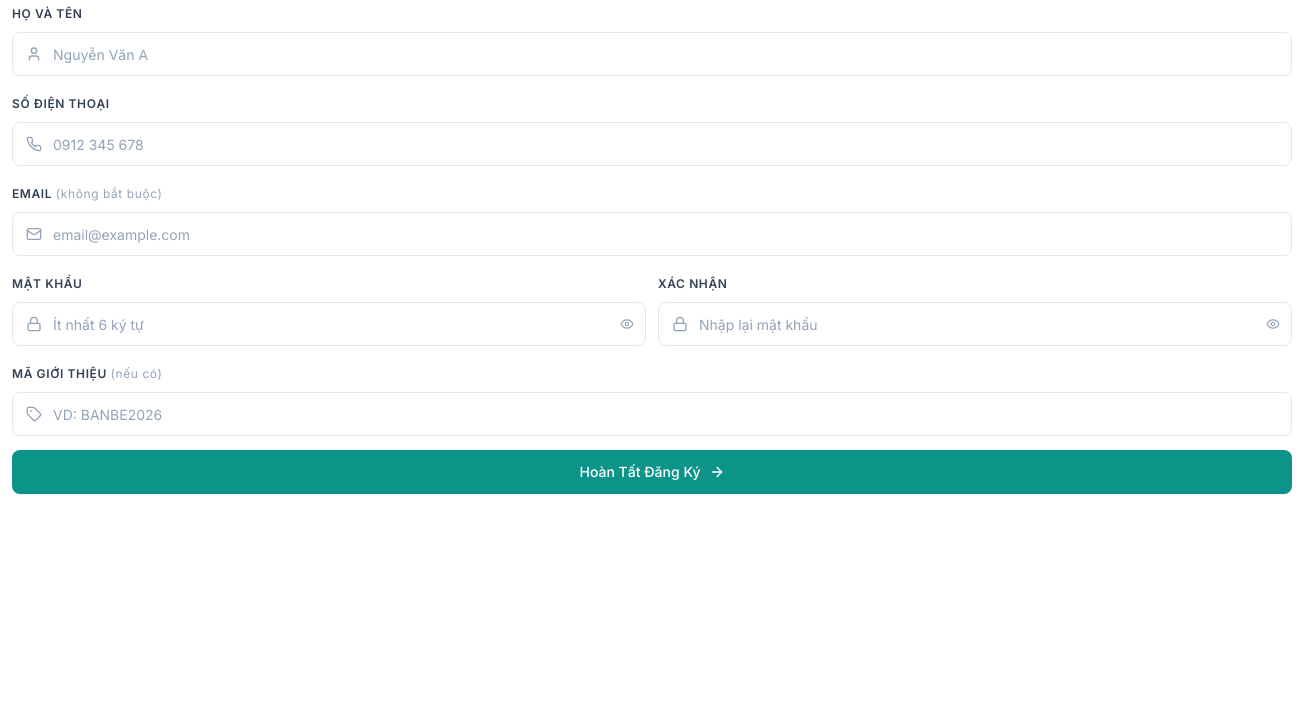
Test case: RegisterForm › toggles confirmPassword visibility between password and text types
This screenshot has width=1304, height=720.
Expected: the 2nd icon with class "lucide-eye" is shown, 1266,317 -> 1280,331
Click the 2nd button named "Hiện mật khẩu" at (1279, 324), box 1266,302 -> 1292,346
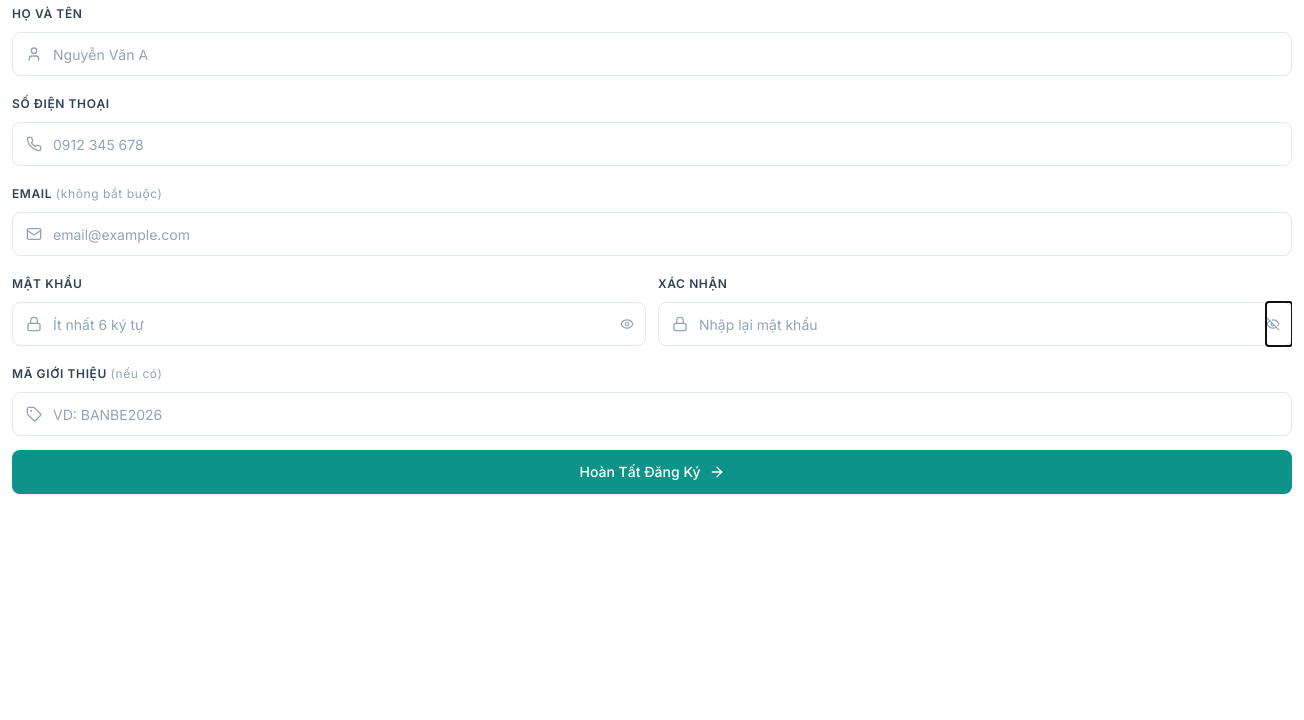
Expected: the icon with class "lucide-eye-off" is shown, 1266,317 -> 1280,331
Click the button named "Ẩn mật khẩu" at (1279, 324), box 1266,302 -> 1292,346
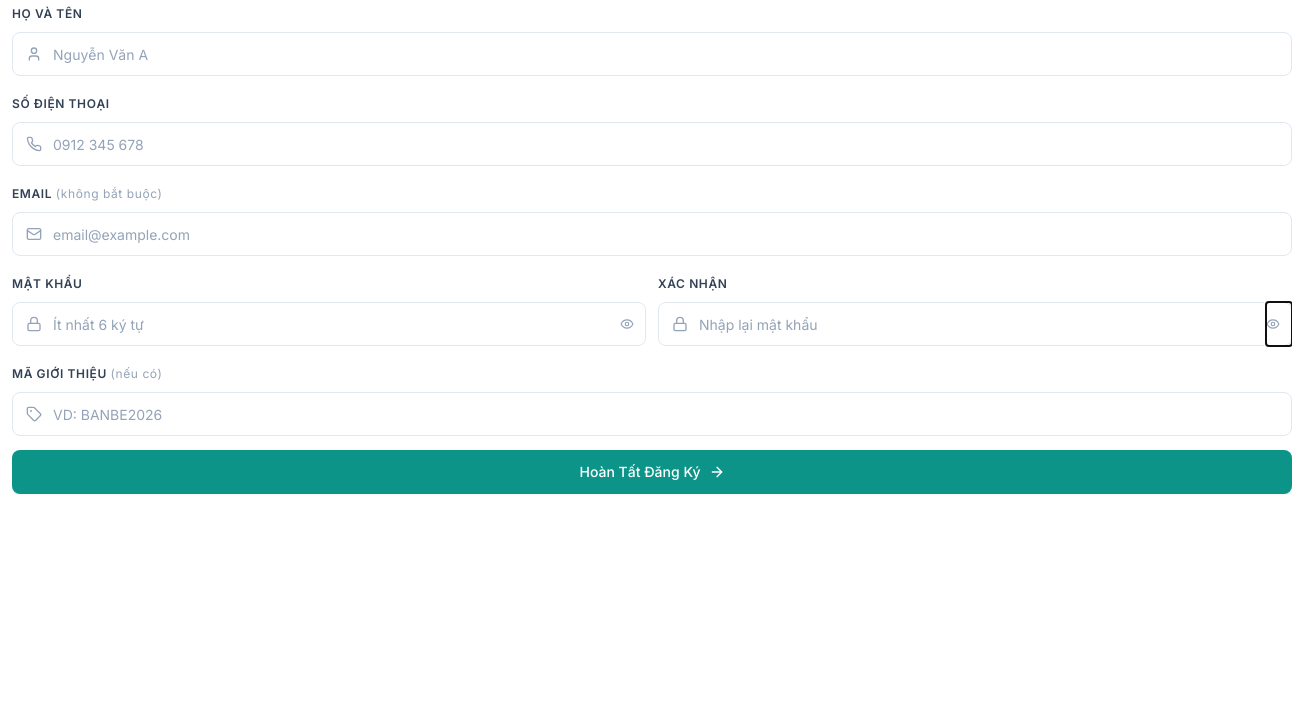
Expected: the 2nd icon with class "lucide-eye" is shown, 1266,317 -> 1280,331
Expected: the icon with class "lucide-eye-off" is gone
